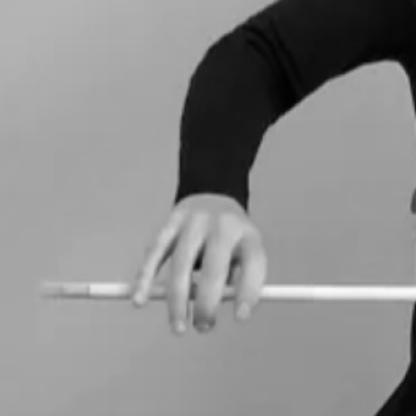good: (122, 181, 275, 343)
